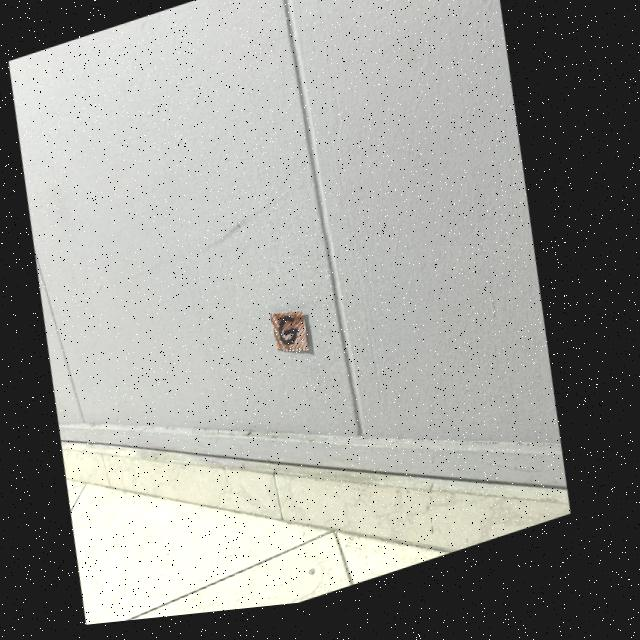G: (287, 323, 305, 351)
